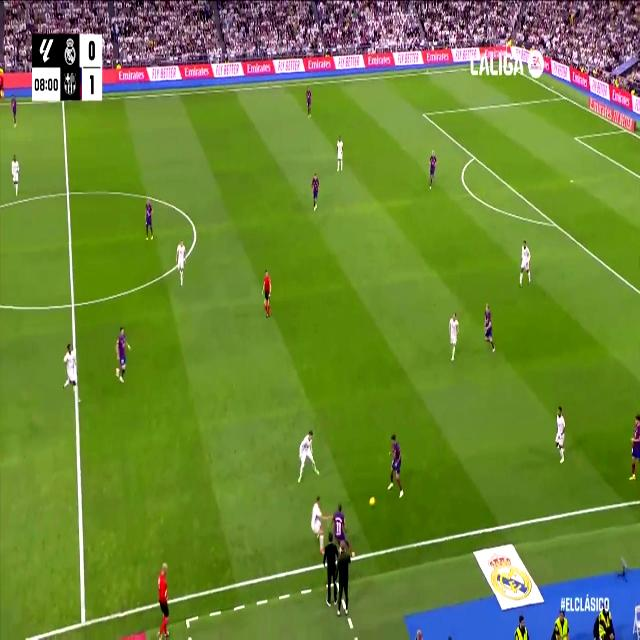bigarea_top_inner: (421, 107, 426, 121)
bottom_arc_area_intersection: (550, 216, 558, 232)
halfcircle_bottom: (68, 292, 78, 317)
halfcircle_top: (62, 181, 74, 205)
midline_bottom_intersection: (75, 600, 92, 636)
smallarea_top_inner: (572, 132, 578, 143)
top_arc_area_intersection: (471, 149, 477, 163)
